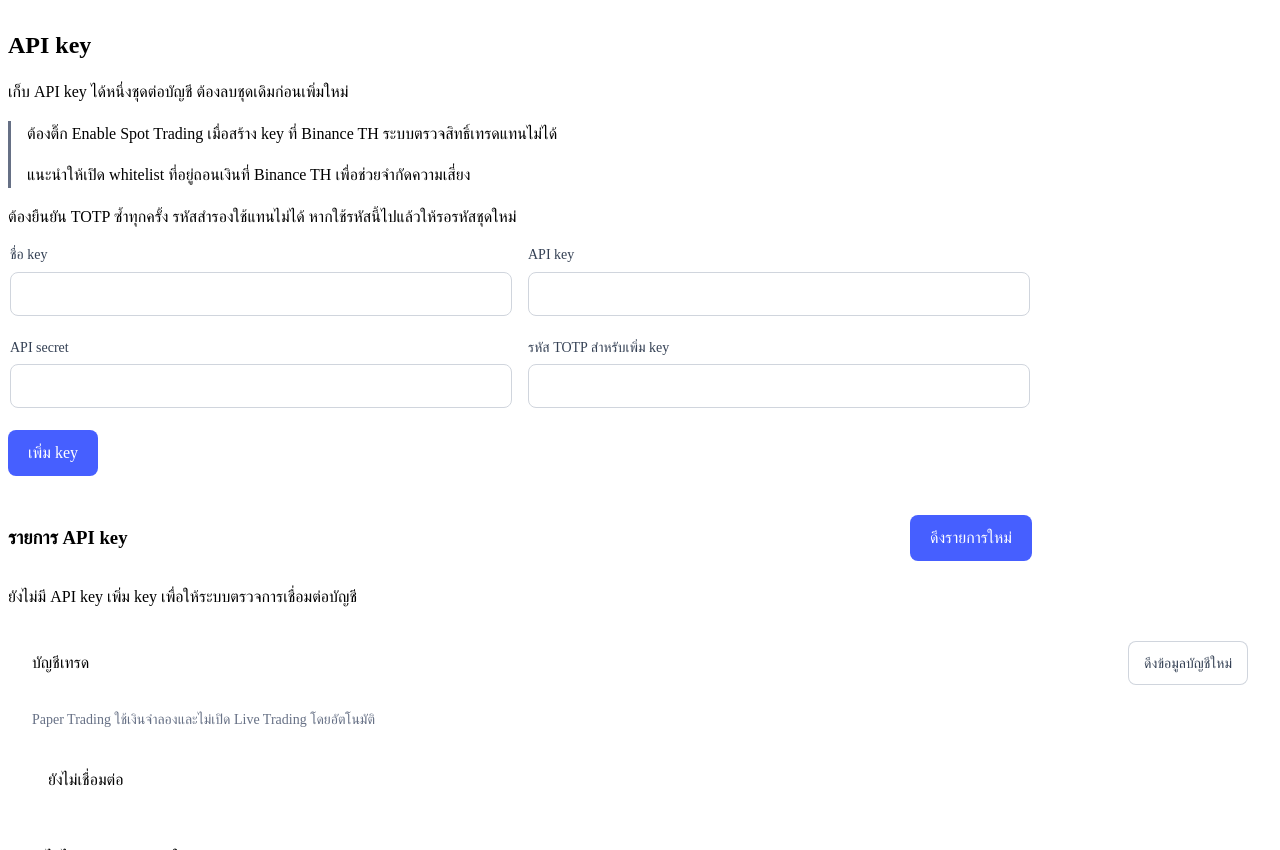
Scenario: adding sole key refetches the account summary through the shared client
This screenshot has width=1280, height=850.
expect the text "ยังไม่เชื่อมต่อ" is shown: met, box left=48, top=772, right=124, bottom=788
Type "Primary" into the field labelled "ชื่อ key" at (261, 294), box left=10, top=272, right=512, bottom=316
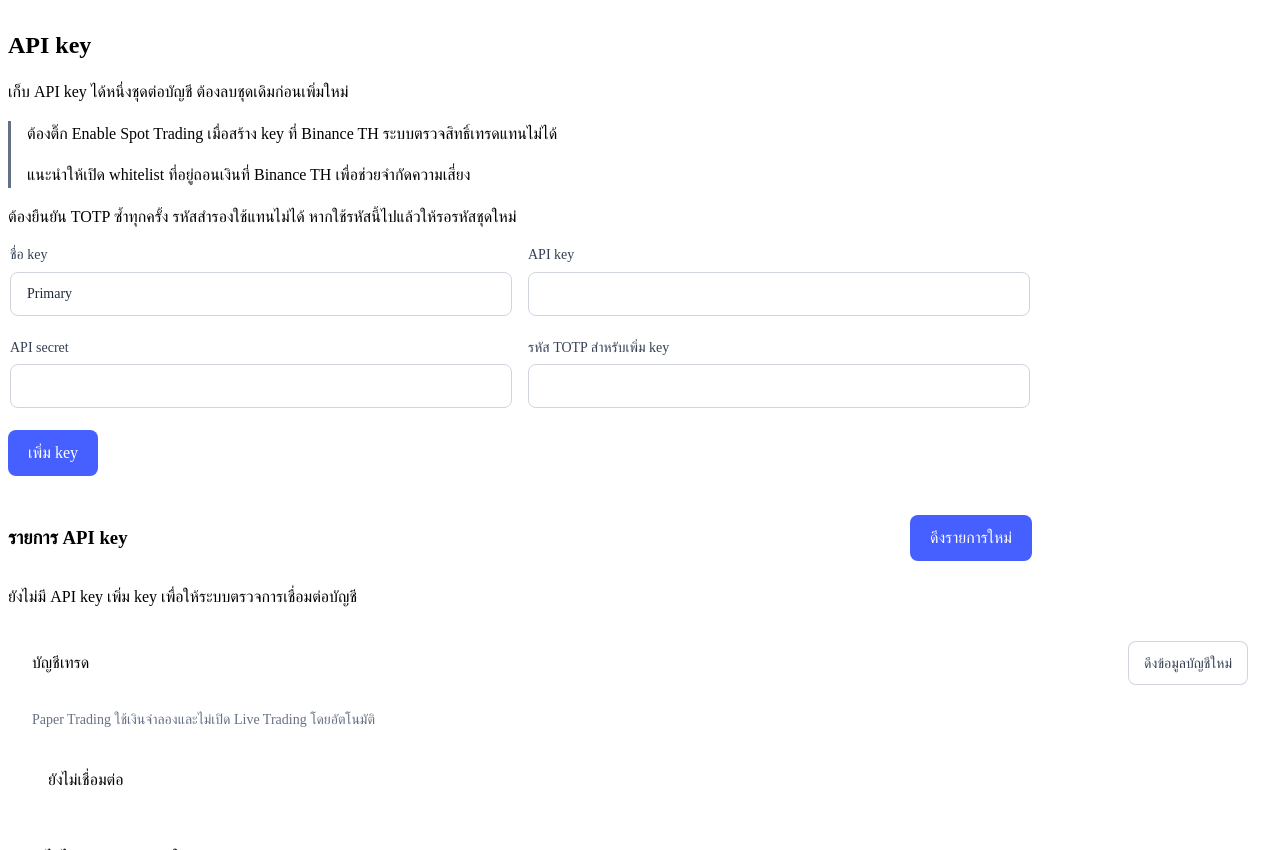
Type "SYNTHETIC-KEY" into the password field with id "api-key-key" at (779, 294), box left=528, top=272, right=1030, bottom=316
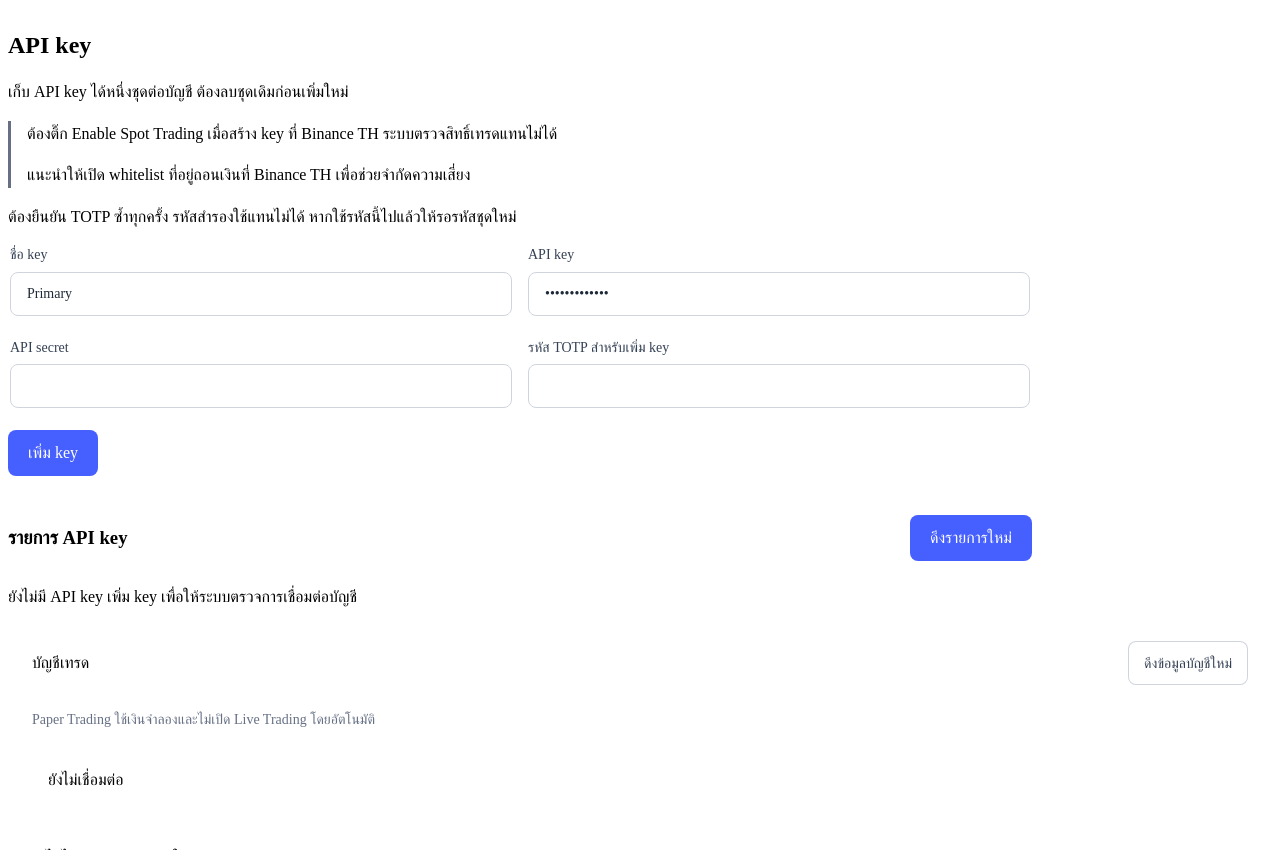
Type "SYNTHETIC-SECRET" into the password field labelled "API secret" at (261, 386), box left=10, top=364, right=512, bottom=408
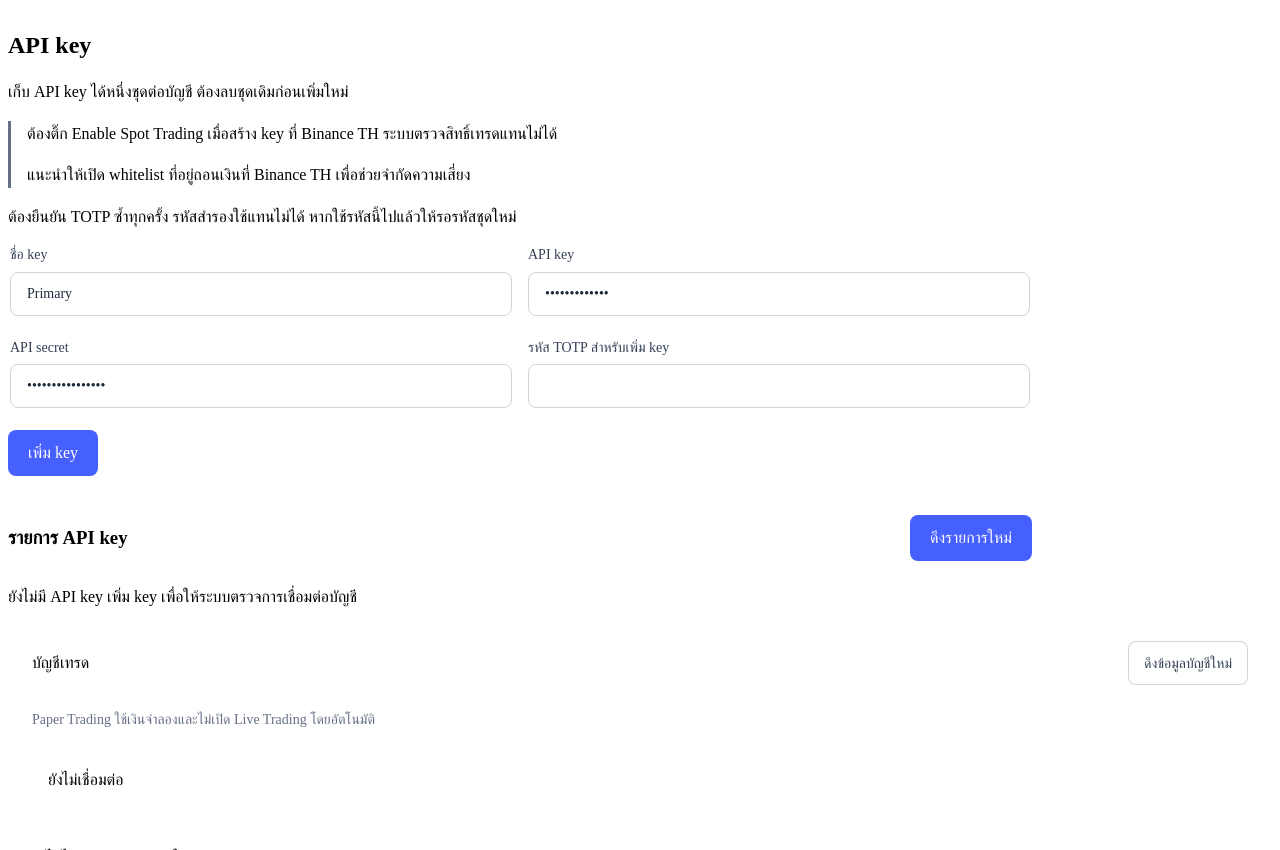
Type "123456" into the field labelled "รหัส TOTP สำหรับเพิ่ม key" at (779, 386), box left=528, top=364, right=1030, bottom=408
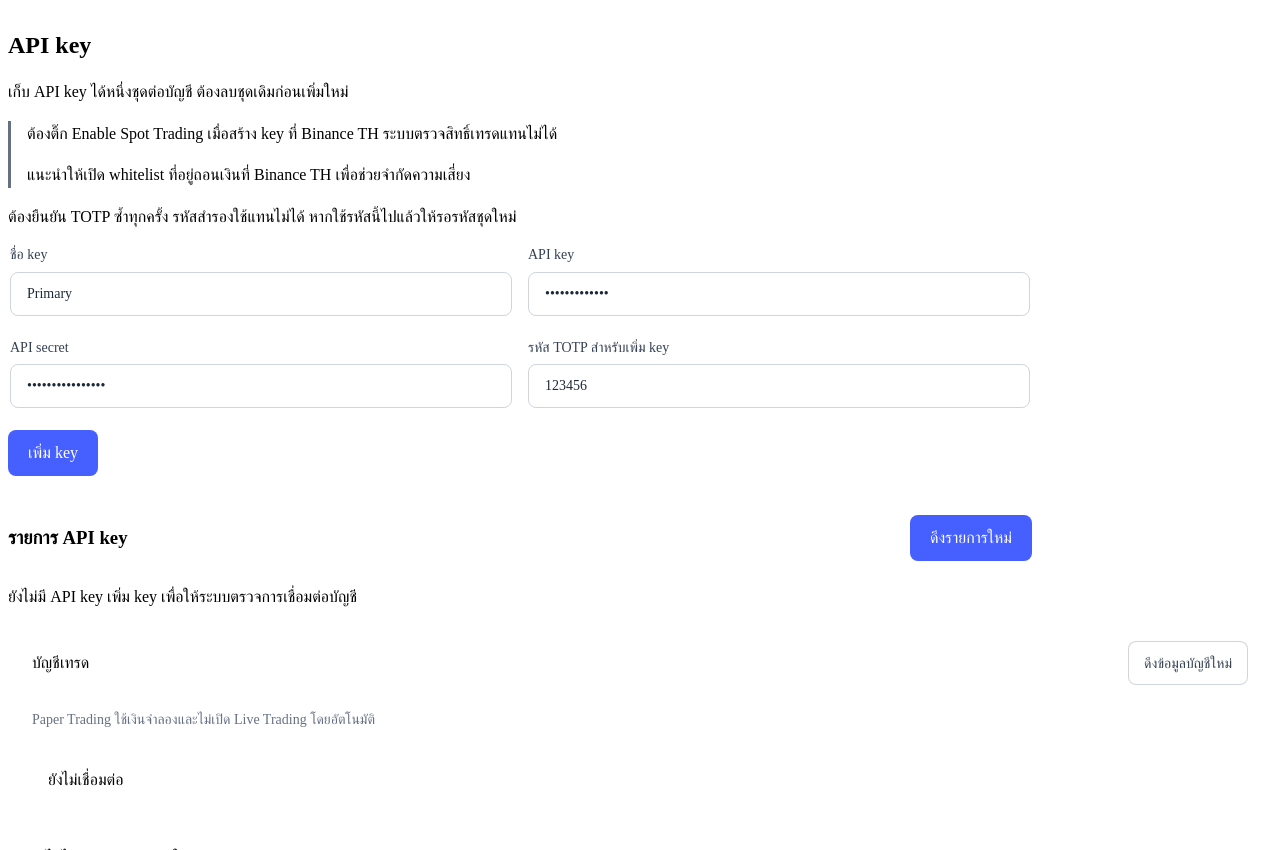
Click the button "เพิ่ม key" at (53, 453), box left=8, top=430, right=98, bottom=476
(page scrolled)
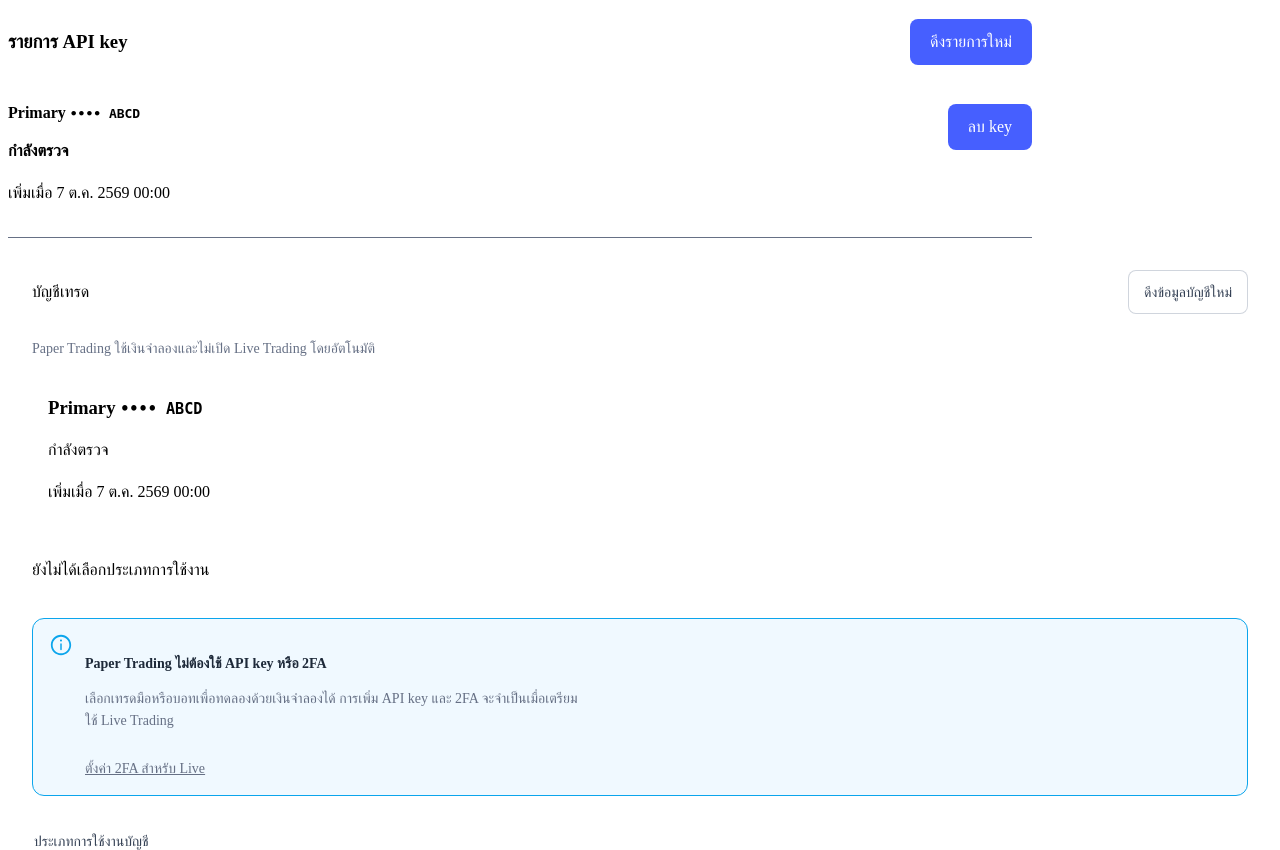
expect the text "กำลังตรวจ" below "บัญชีเทรด" is shown: met, box left=48, top=441, right=109, bottom=458
expect the text "ยังไม่เชื่อมต่อ" is gone: met
